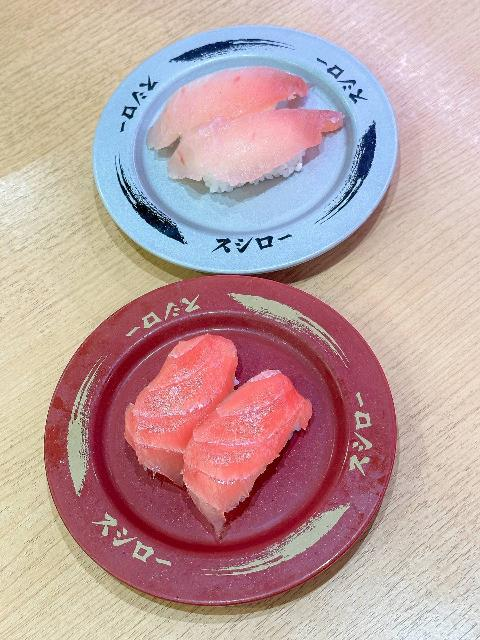janred: (0, 257, 425, 588)
janwhite: (88, 22, 406, 251)
